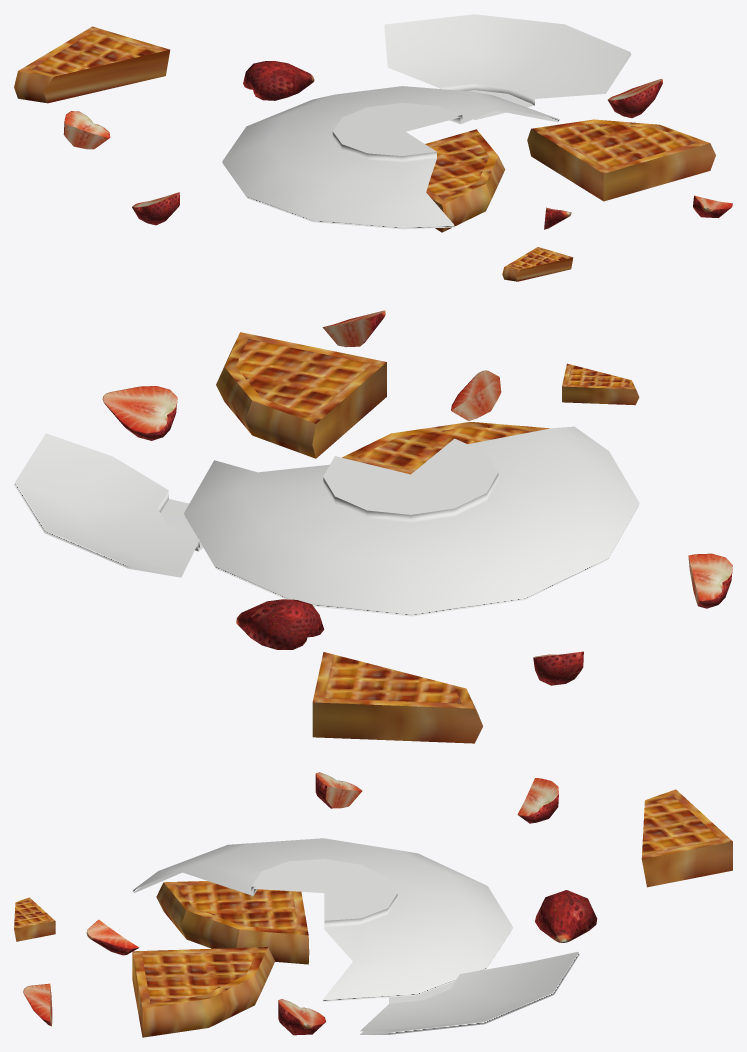
Rendered from Waffles_V3.fbx.
3 views of the same model, one above another, from view 1: azimuth 30°, elevation 25°; view 2: azimuth 150°, elevation 25°; view 3: azimuth 270°, elevation 25° (orthographic). The views are drawn at different scales.
Parts seen in each view (by area): view 1: Waffles_V3; view 2: Waffles_V3; view 3: Waffles_V3.
Part boxes in pixels (box(x1,y1,x2,y2)): Waffles_V3: box(14, 14, 732, 281); Waffles_V3: box(14, 310, 732, 743); Waffles_V3: box(14, 772, 732, 1037).
Size of the model in its own units: 37.4 by 2.89 by 42.77.
